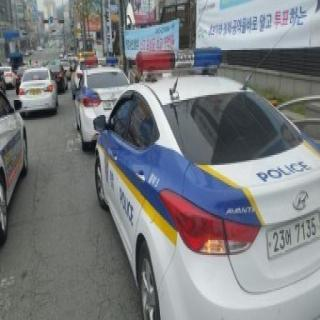Police_car: (92, 43, 319, 320), (74, 54, 138, 160)
